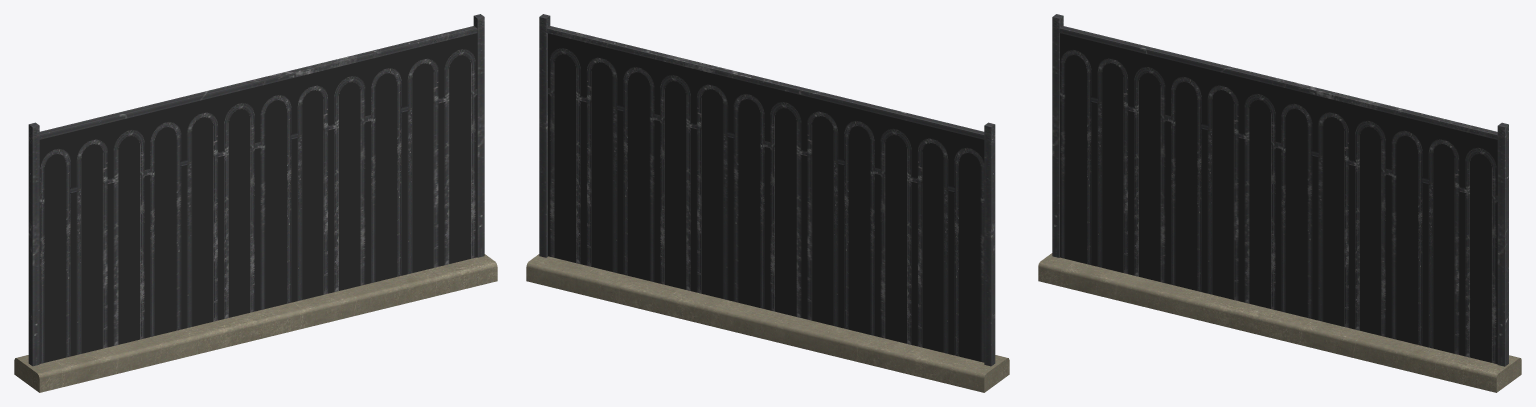
Rendered from Fence_08.fbx.
3 views of the same model, side by side, from view 1: azimuth 30°, elevation 25°; view 2: azimuth 150°, elevation 25°; view 3: azimuth 330°, elevation 25° (orthographic).
Parts seen in each view (by area): view 1: Fence_08; view 2: Fence_08; view 3: Fence_08.
Part boxes in pixels (x1,y1,x2,y2): Fence_08: (14,14,497,392); Fence_08: (526,14,1009,392); Fence_08: (1038,14,1521,392).
Bounding box in the file's own units: 200 × 107 × 19.05.
